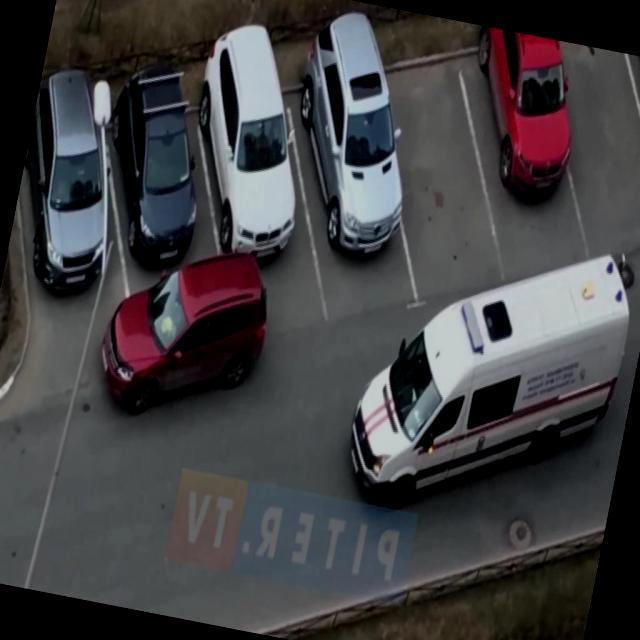space-empty: (352, 36, 548, 300), (519, 41, 640, 289)
space-occupied: (254, 8, 454, 325), (170, 35, 361, 320), (79, 45, 254, 325), (434, 26, 620, 289), (0, 61, 146, 334), (601, 55, 640, 233)
